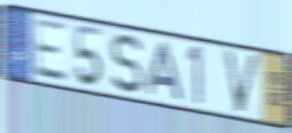1: (185, 43, 206, 107)
5: (73, 21, 104, 89)
A: (146, 41, 186, 104)
E: (31, 15, 70, 84)
S: (110, 32, 144, 96)
V: (221, 47, 262, 118)
